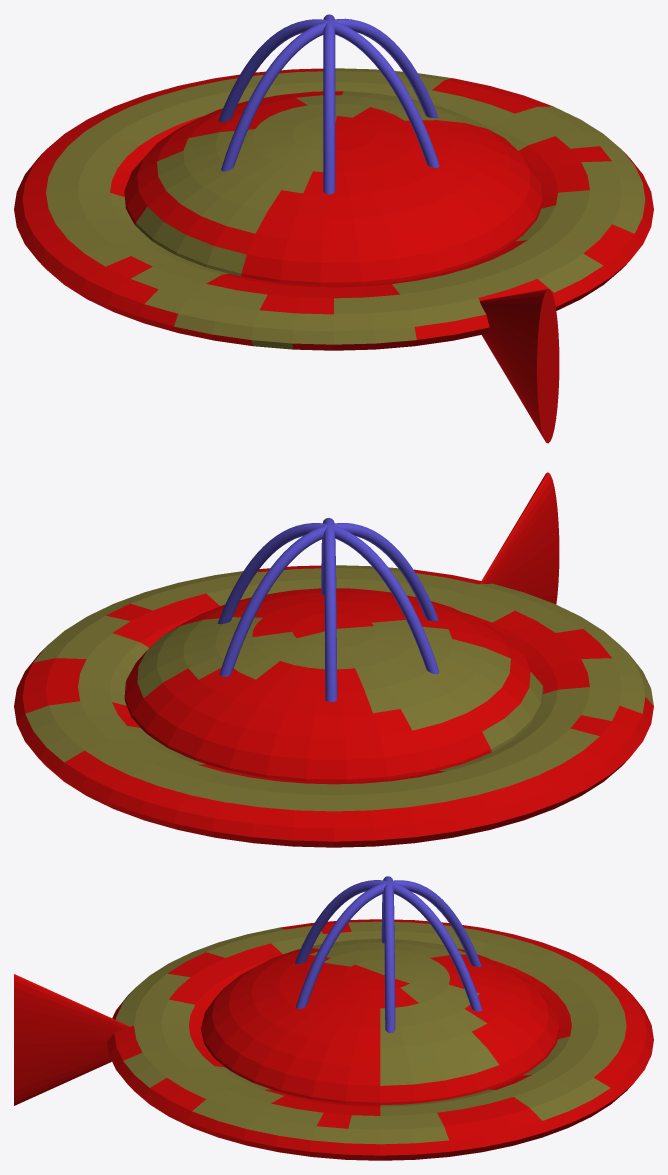
The model's file is platillo.obj.
3 renders of one model, top to bottom at view 1: azimuth 30°, elevation 25°; view 2: azimuth 150°, elevation 25°; view 3: azimuth 270°, elevation 25°, orthographic. The views are drawn at different scales.
Parts seen in each view (by area): view 1: Cone, NurbsCurve; view 2: Cone, NurbsCurve; view 3: Cone, NurbsCurve.
Boxes of the visible parts, x1=… form: Cone: x1=14, y1=68, x2=653, y2=443; NurbsCurve: x1=218, y1=14, x2=439, y2=194; Cone: x1=14, y1=472, x2=653, y2=847; NurbsCurve: x1=217, y1=518, x2=439, y2=701; Cone: x1=14, y1=919, x2=653, y2=1160; NurbsCurve: x1=295, y1=876, x2=482, y2=1033.
Bounding box in the file's own units: 7.5 × 3.39 × 8.77.
